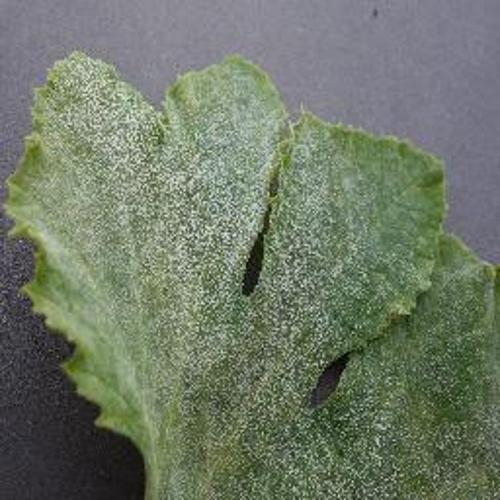Squash: (4, 51, 500, 500)
